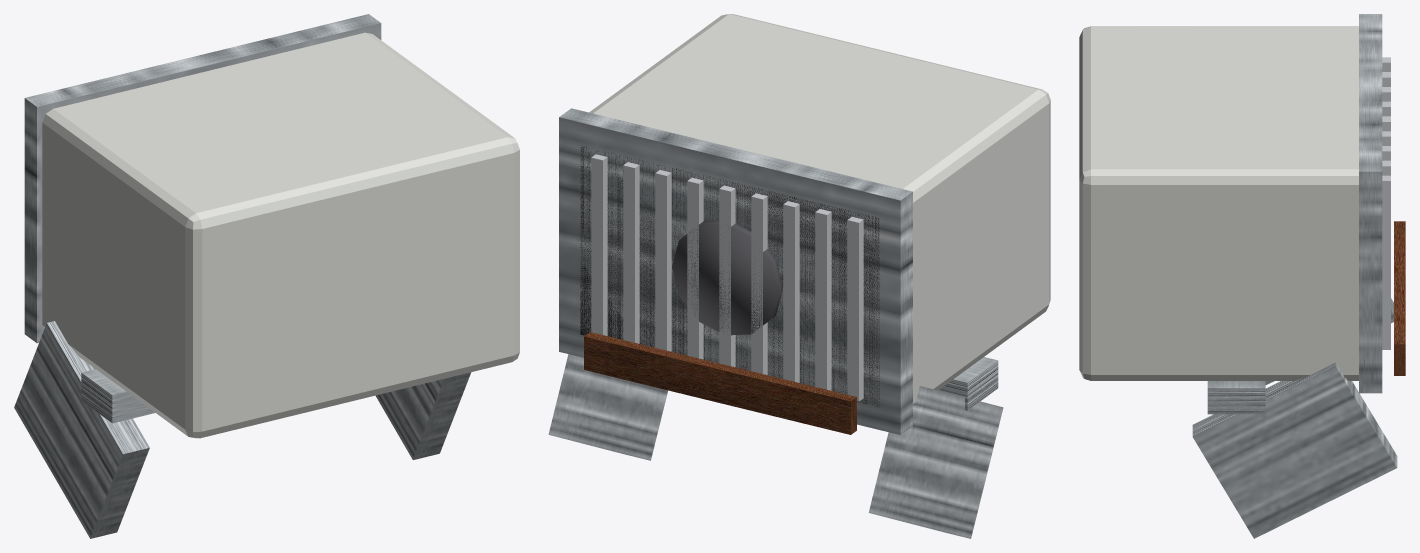
The model's file is WK_STR_ACWindowUnit.glb.
3 views of the same model, side by side, from view 1: azimuth 30°, elevation 25°; view 2: azimuth 150°, elevation 25°; view 3: azimuth 270°, elevation 25° (orthographic). The views are drawn at different scales.
Visible parts, largest first — view 1: WK_STR_ACWindowUnit_P01, WK_STR_ACWindowUnit_P15, WK_STR_ACWindowUnit_P02, WK_STR_ACWindowUnit_P16, WK_STR_ACWindowUnit_P14; view 2: WK_STR_ACWindowUnit_P01, WK_STR_ACWindowUnit_P02, WK_STR_ACWindowUnit_P03, WK_STR_ACWindowUnit_P15, WK_STR_ACWindowUnit_P17, WK_STR_ACWindowUnit_P16, WK_STR_ACWindowUnit_P13, WK_STR_ACWindowUnit_P04, WK_STR_ACWindowUnit_P12, WK_STR_ACWindowUnit_P11, WK_STR_ACWindowUnit_P10, WK_STR_ACWindowUnit_P05 (+5 smaller); view 3: WK_STR_ACWindowUnit_P01, WK_STR_ACWindowUnit_P16, WK_STR_ACWindowUnit_P02, WK_STR_ACWindowUnit_P14, WK_STR_ACWindowUnit_P17, WK_STR_ACWindowUnit_P12.
Boxes of the visible parts, box(x1,y1,x2,y2) form: WK_STR_ACWindowUnit_P01: box(42, 32, 519, 438); WK_STR_ACWindowUnit_P15: box(14, 321, 149, 538); WK_STR_ACWindowUnit_P02: box(24, 14, 381, 343); WK_STR_ACWindowUnit_P16: box(376, 372, 470, 459); WK_STR_ACWindowUnit_P14: box(81, 369, 155, 423); WK_STR_ACWindowUnit_P01: box(589, 14, 1050, 405); WK_STR_ACWindowUnit_P02: box(559, 108, 912, 434); WK_STR_ACWindowUnit_P03: box(580, 146, 879, 407); WK_STR_ACWindowUnit_P15: box(868, 386, 1003, 538); WK_STR_ACWindowUnit_P17: box(584, 332, 856, 434); WK_STR_ACWindowUnit_P16: box(548, 354, 667, 460); WK_STR_ACWindowUnit_P13: box(672, 220, 782, 335); WK_STR_ACWindowUnit_P04: box(847, 216, 863, 401); WK_STR_ACWindowUnit_P12: box(591, 154, 607, 335); WK_STR_ACWindowUnit_P11: box(623, 162, 639, 343); WK_STR_ACWindowUnit_P10: box(655, 170, 671, 351); WK_STR_ACWindowUnit_P05: box(815, 209, 831, 390); WK_STR_ACWindowUnit_P01: box(1079, 26, 1358, 380); WK_STR_ACWindowUnit_P16: box(1192, 362, 1397, 538); WK_STR_ACWindowUnit_P02: box(1359, 14, 1382, 393); WK_STR_ACWindowUnit_P14: box(1207, 381, 1265, 414); WK_STR_ACWindowUnit_P17: box(1394, 221, 1405, 375); WK_STR_ACWindowUnit_P12: box(1382, 175, 1390, 349).
Size of the model in its own units: 0.66 by 0.6937 by 0.56.
Materials: 6 (2 with a texture image).
